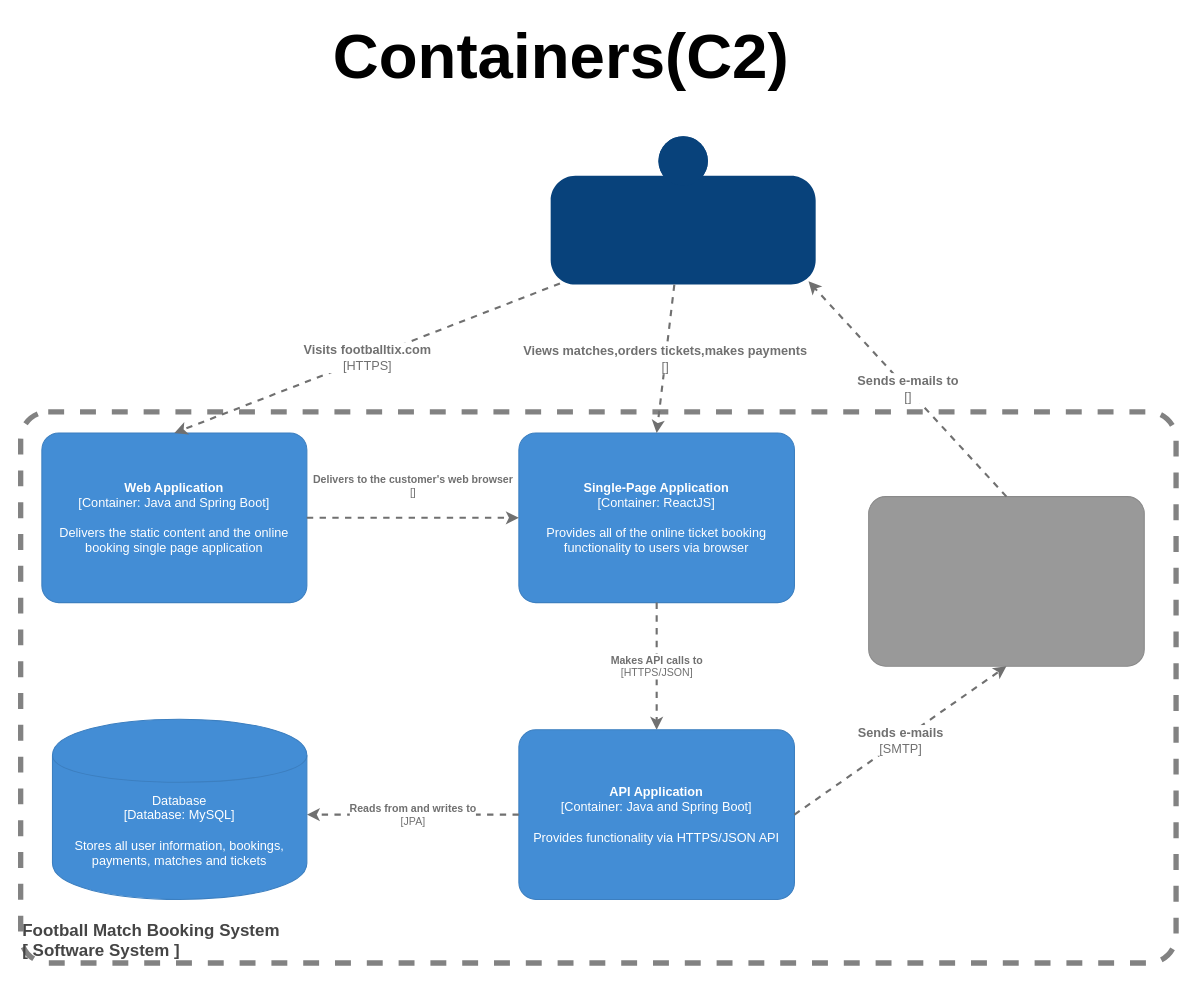
Some shapes in this 1197 by 984 pixel diagram are drawn without their labels. Each missing label, with the centre of its shape:
"E-Mail System [Software System] Sends notifications, confirmation emails" belongs at pixel 1006 581.
"FootballTix User [Person] Registered user with personal account" belongs at pixel 682 210.
